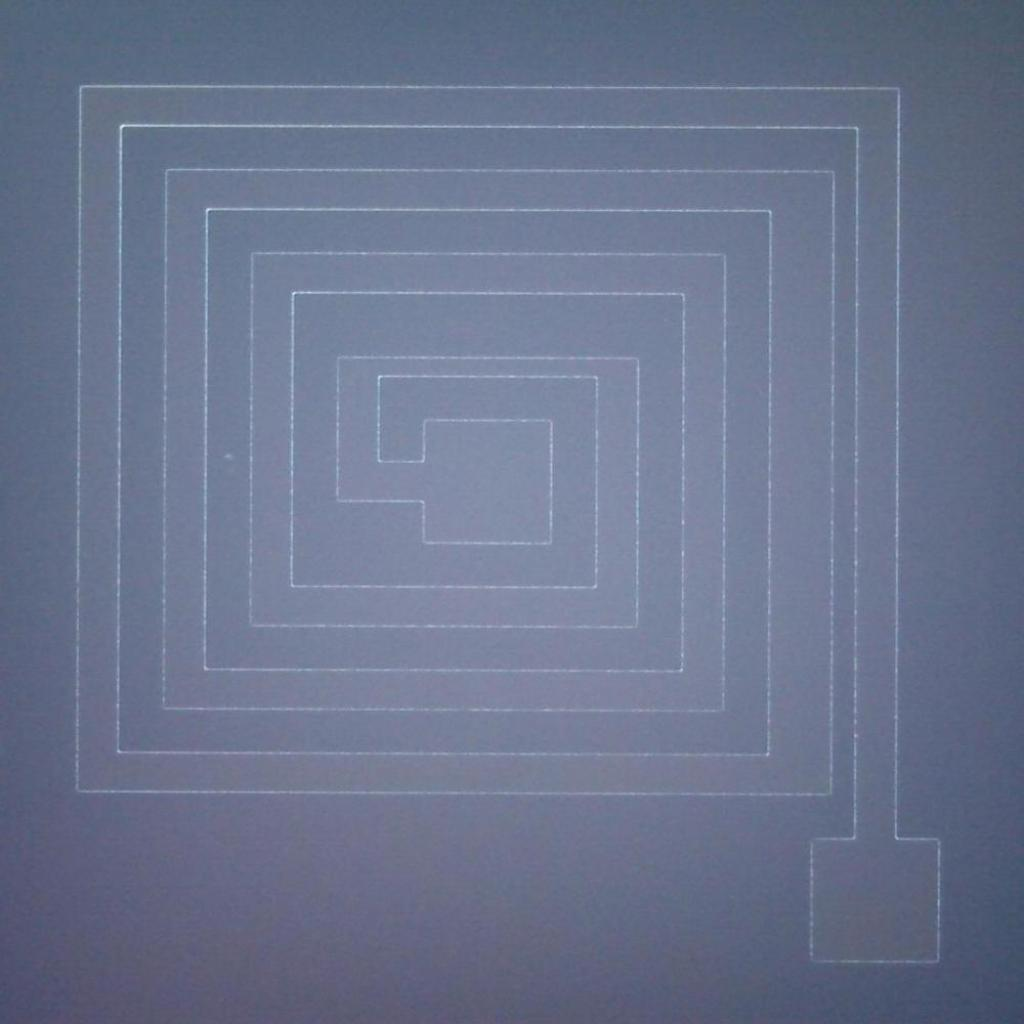fat circuit: (753, 152, 845, 817)
thin circuit: (318, 341, 654, 393)
